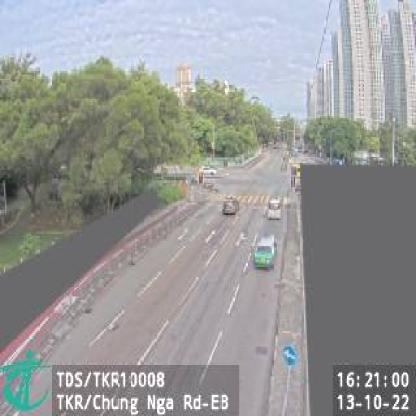Car: (253, 232, 277, 269), (266, 194, 281, 220), (223, 195, 240, 215)
